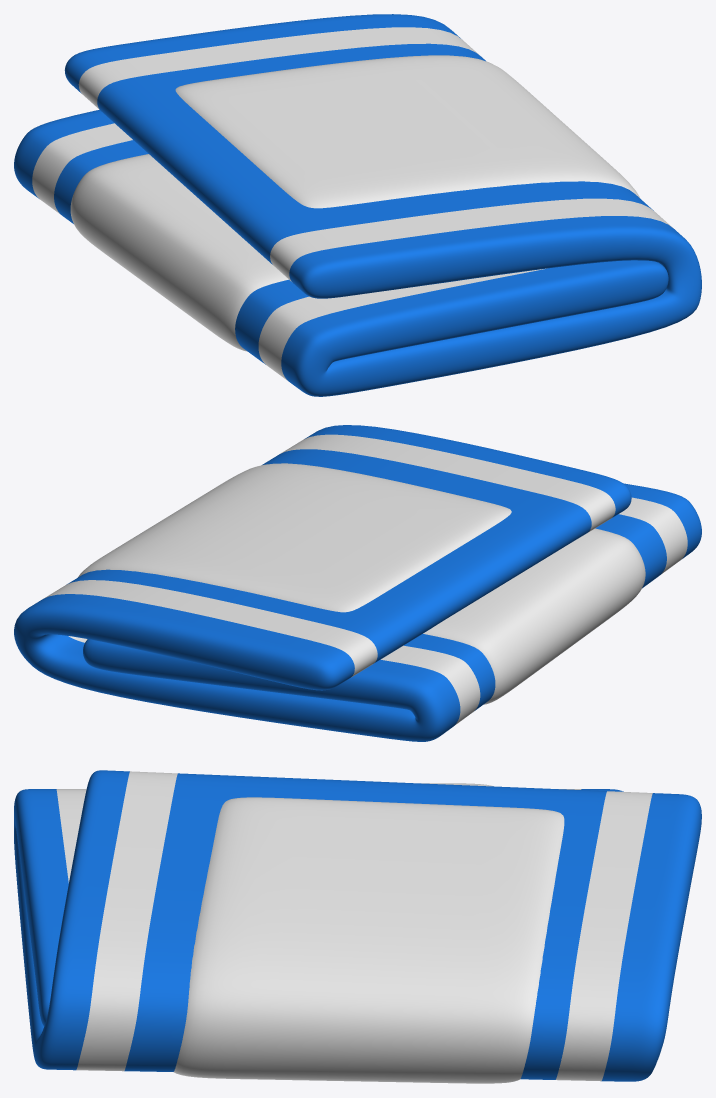
Rendered from towel-3d-animated-icon-201581563895.glb.
The picture shows the model from 3 angles, top to bottom: view 1: azimuth 30°, elevation 25°; view 2: azimuth 150°, elevation 25°; view 3: azimuth 270°, elevation 25°; orthographic projection. The views are drawn at different scales.
Parts seen in each view (by area): view 1: Plane.034, Plane.035; view 2: Plane.034, Plane.035; view 3: Plane.034, Plane.035.
Boxes of the visible parts, x1,y1,x2,y2 form: Plane.034: (14,14,701,396); Plane.035: (70,55,640,351); Plane.034: (14,425,701,741); Plane.035: (78,463,645,704); Plane.034: (14,770,701,1081); Plane.035: (173,783,564,1083).
Size of the model in its own units: 4.06 by 1.09 by 4.98.
